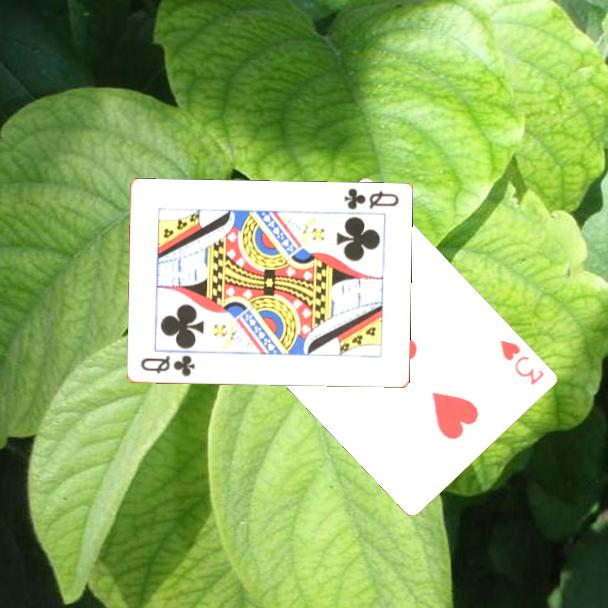c12: (340, 185, 401, 213), (137, 352, 197, 379)
h03: (497, 336, 547, 388)
